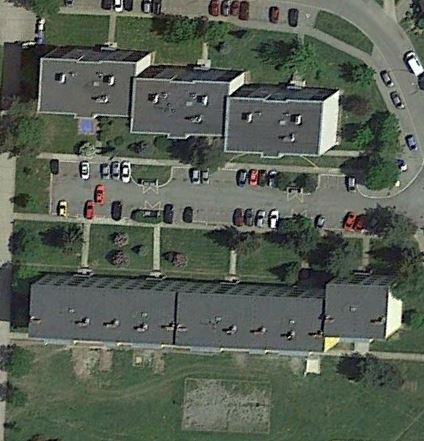block of flats: (31, 39, 344, 160), (20, 266, 411, 355)
